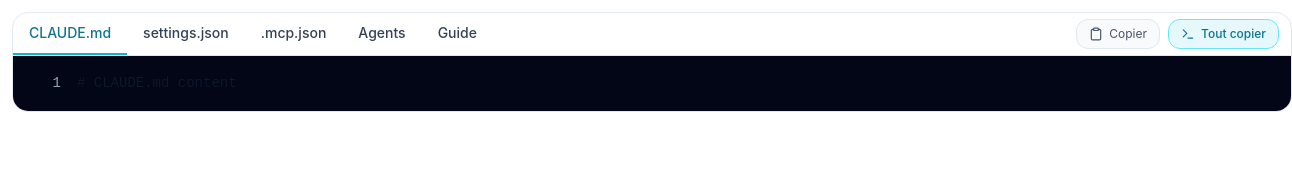
Test case: ConfigPreview › shows copied feedback after successful copy
Click the button with aria-label "Copier ce fichier" at (1118, 34), box 1076,19 -> 1160,49
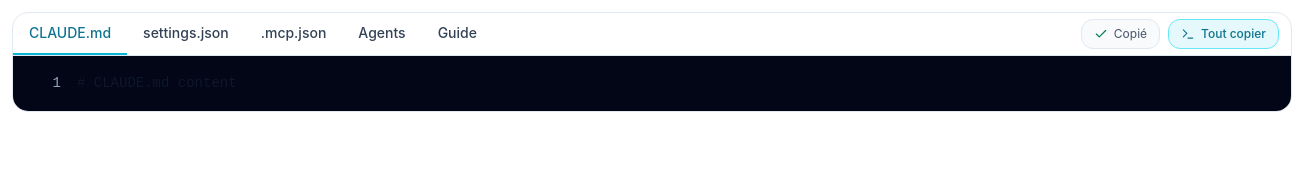
Result: the button with aria-label "Fichier copié" is shown at 1081,19 -> 1160,49
